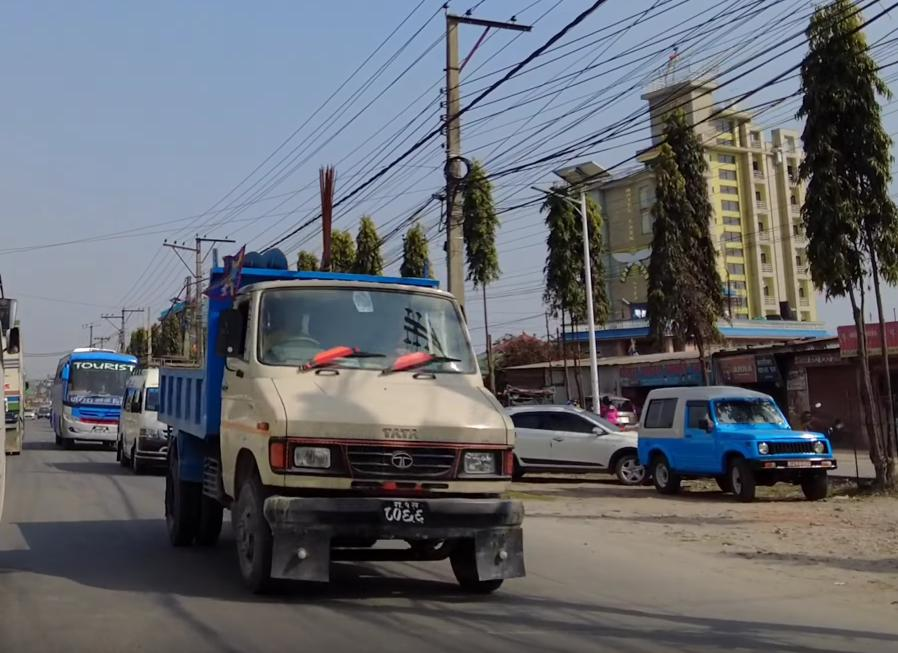bus: (43, 342, 132, 459)
car: (626, 376, 842, 507), (505, 383, 635, 490)
micro_bus: (122, 356, 171, 471)
mini_truck: (143, 242, 543, 604)
